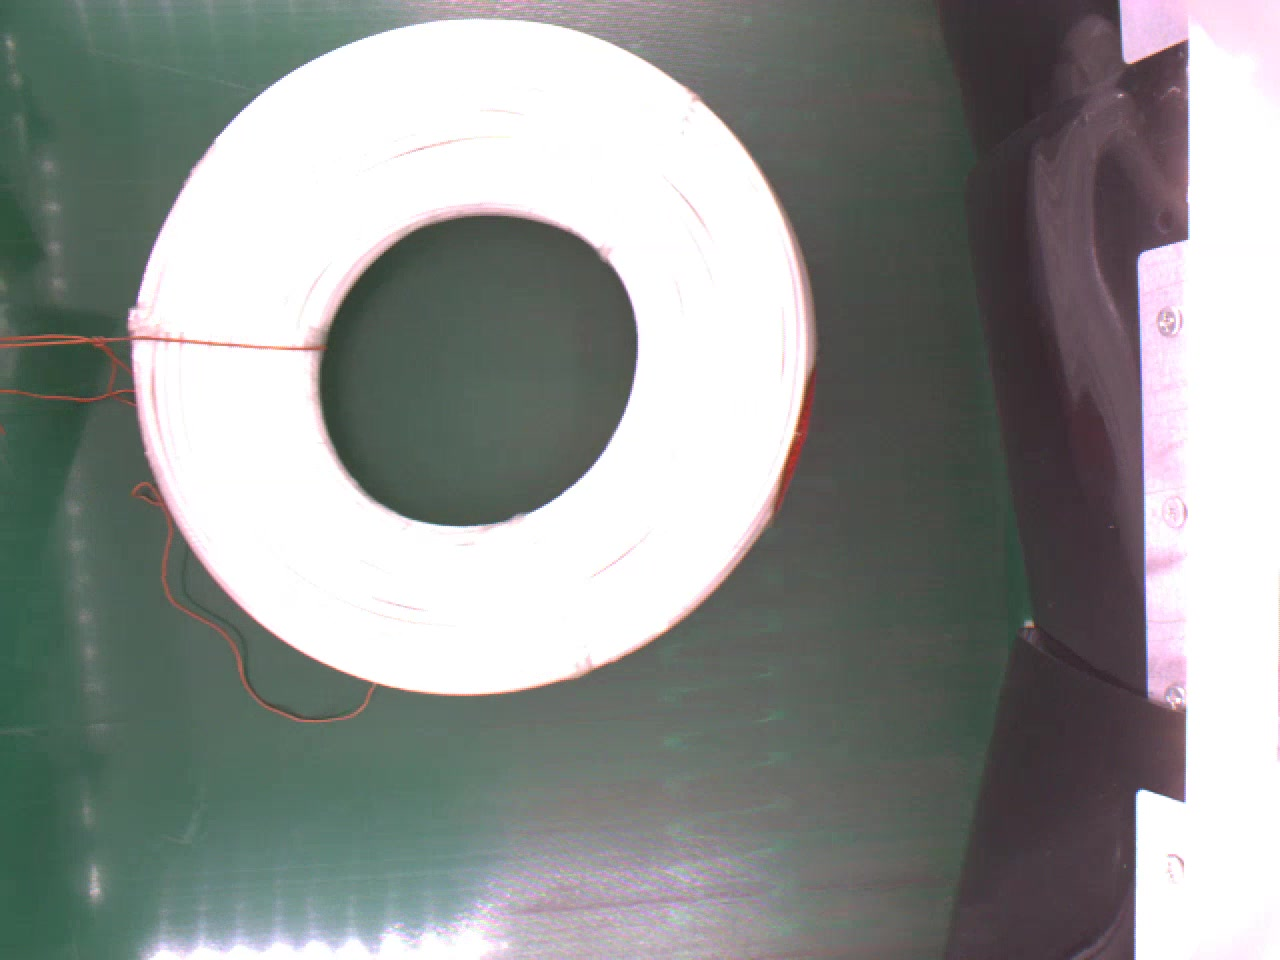white: (124, 17, 834, 698)
